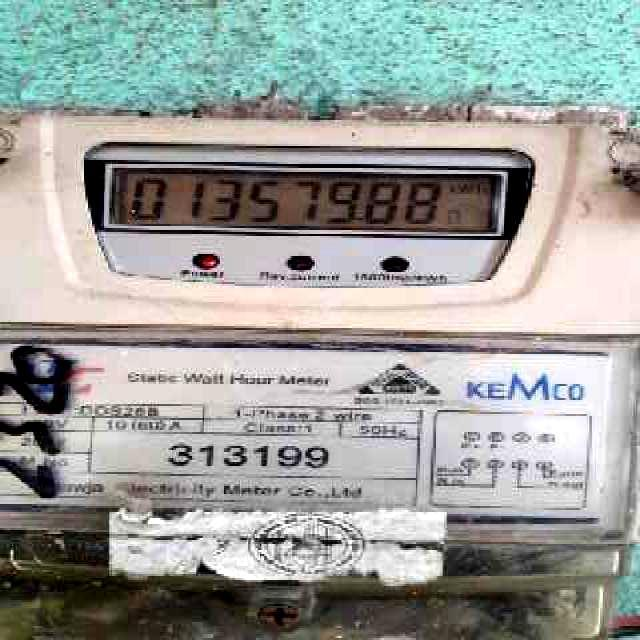LCD: (95, 155, 512, 245)
